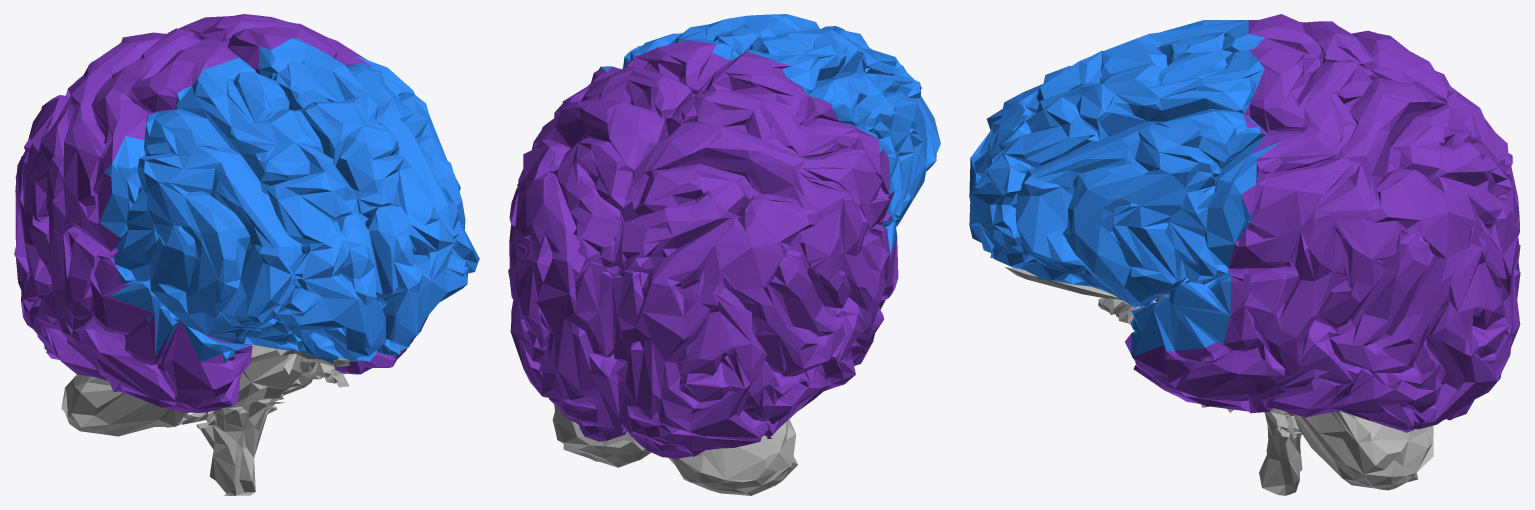
Rendered from brain.fbx.
3 renders of one model, left to right at view 1: azimuth 30°, elevation 25°; view 2: azimuth 150°, elevation 25°; view 3: azimuth 270°, elevation 25°, orthographic. The views are drawn at different scales.
Visible parts, largest first — view 1: left_08 - Default_0 Front, left_08 - Default_0 Back, right_08 - Default_0 Front, centr_08 - Default_0, right_08 - Default_0 Back; view 2: left_08 - Default_0 Back, right_08 - Default_0 Back, left_08 - Default_0 Front, centr_08 - Default_0, right_08 - Default_0 Front; view 3: right_08 - Default_0 Back, right_08 - Default_0 Front, centr_08 - Default_0, left_08 - Default_0 Back, left_08 - Default_0 Front.
Boxes of the visible parts, box(x1,y1,x2,y2) form: left_08 - Default_0 Front: box(99, 54, 385, 363); left_08 - Default_0 Back: box(14, 28, 252, 412); right_08 - Default_0 Front: box(258, 38, 479, 355); centr_08 - Default_0: box(61, 332, 408, 495); right_08 - Default_0 Back: box(179, 14, 413, 374); left_08 - Default_0 Back: box(612, 51, 898, 458); right_08 - Default_0 Back: box(508, 40, 729, 441); left_08 - Default_0 Front: box(747, 26, 940, 273); centr_08 - Default_0: box(552, 404, 797, 495); right_08 - Default_0 Front: box(600, 14, 819, 72); right_08 - Default_0 Back: box(1125, 48, 1520, 432); right_08 - Default_0 Front: box(969, 49, 1281, 356); centr_08 - Default_0: box(1005, 267, 1433, 495); left_08 - Default_0 Back: box(1155, 14, 1520, 301); left_08 - Default_0 Front: box(969, 20, 1264, 200).
Bounding box in the file's own units: 350 × 432 × 473.
Materials: 2 (2 with a texture image).
